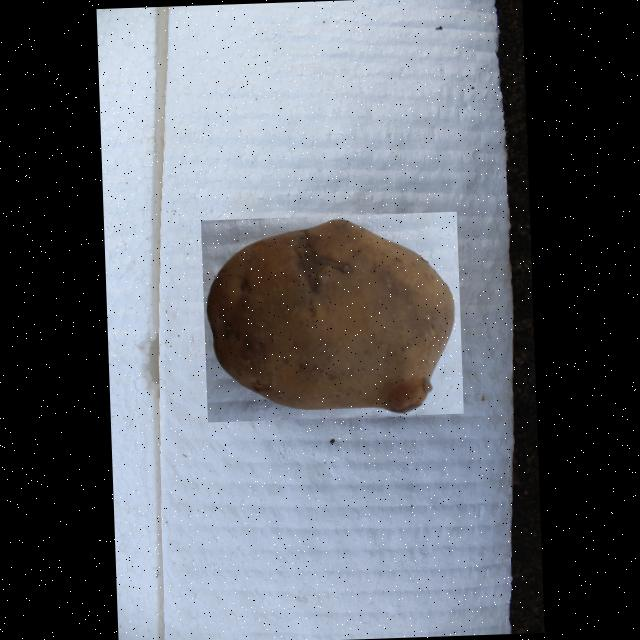Diseased-fungal potato: (201, 210, 464, 421)
